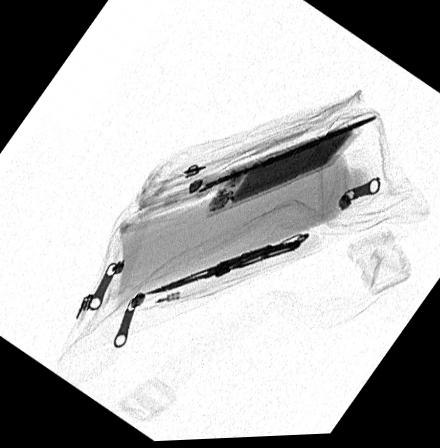Knife: (139, 230, 304, 293)
Powerbank: (201, 129, 363, 224)
Scissors: (114, 106, 378, 239)
